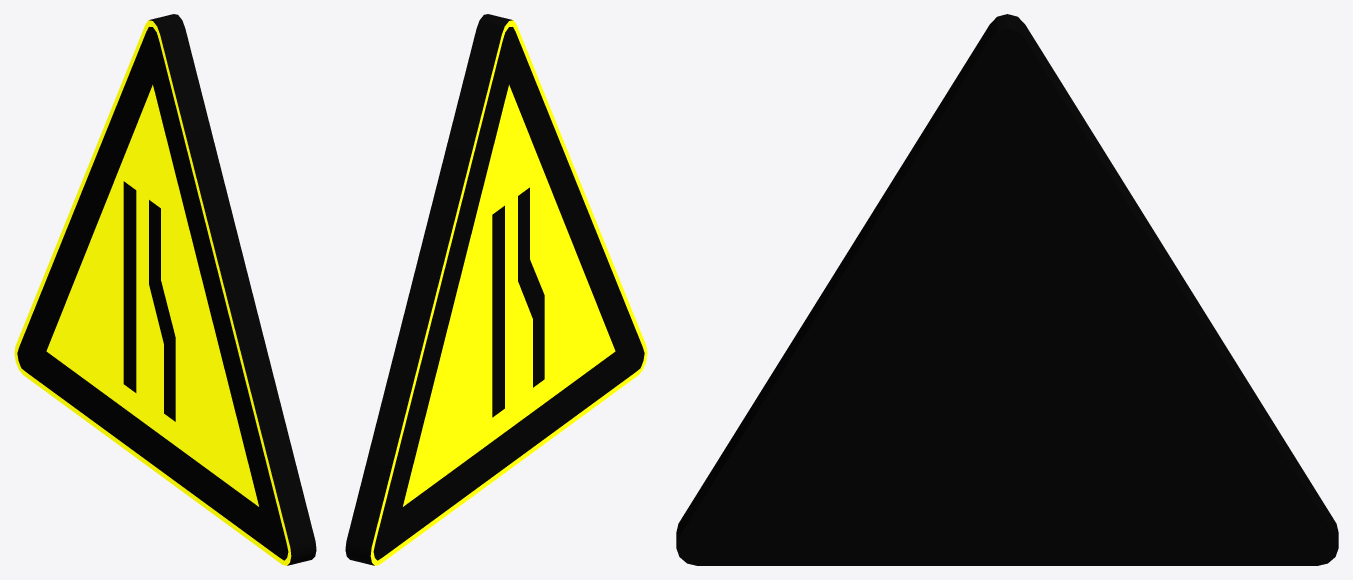
The model's file is Narrow_Road_Right.glb.
3 views of the same model, side by side, from view 1: azimuth 30°, elevation 25°; view 2: azimuth 150°, elevation 25°; view 3: azimuth 270°, elevation 25° (orthographic). The views are drawn at different scales.
Visible parts, largest first — view 1: Narrow_Road_Right; view 2: Narrow_Road_Right; view 3: Narrow_Road_Right.
Part boxes in pixels (<box>): Narrow_Road_Right: <box>14,14,316,565</box>; Narrow_Road_Right: <box>345,14,647,565</box>; Narrow_Road_Right: <box>676,14,1338,565</box>.
Bounding box in the file's own units: 0.075 × 1.02 × 1.14.
